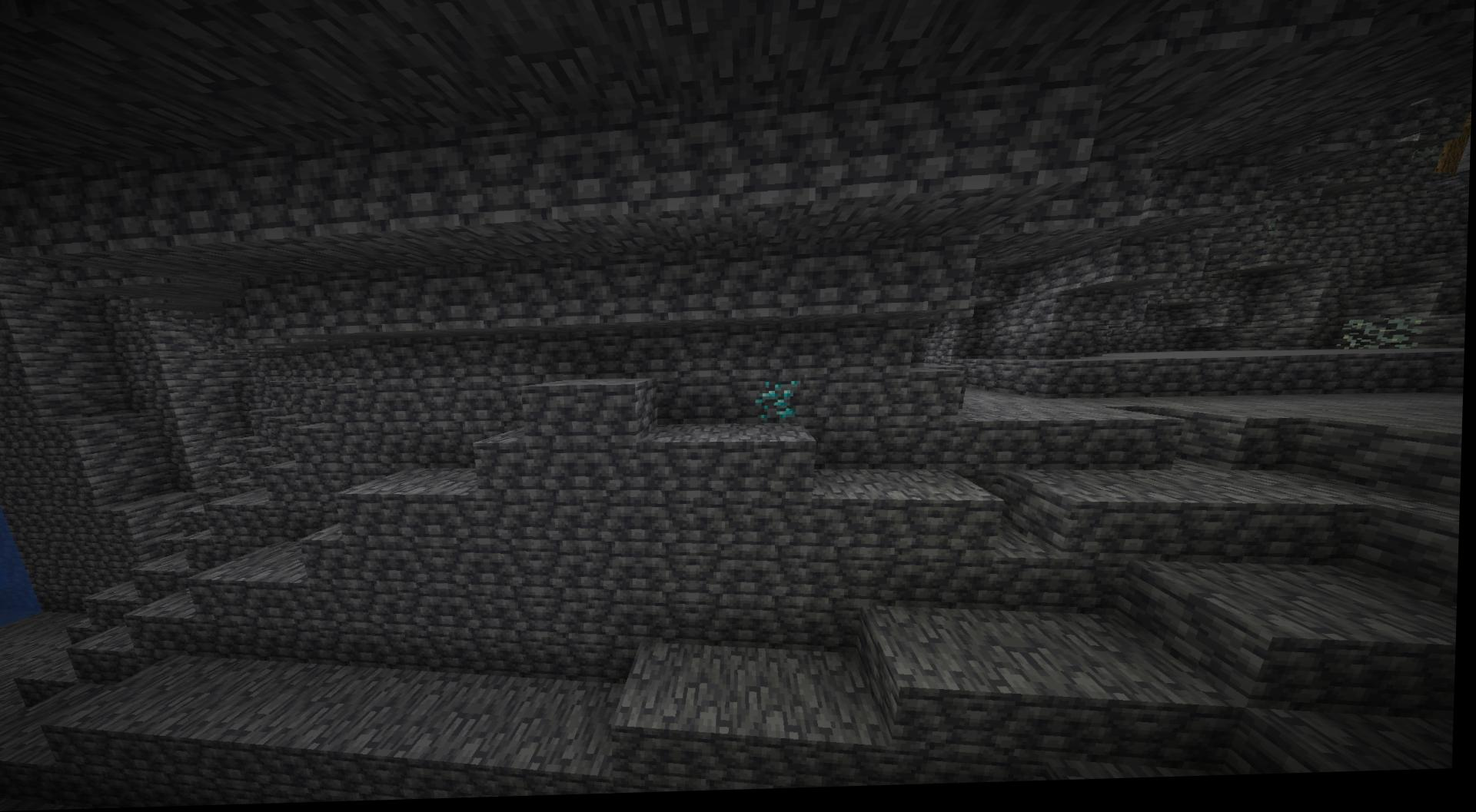diamond ore: (751, 381, 803, 424)
